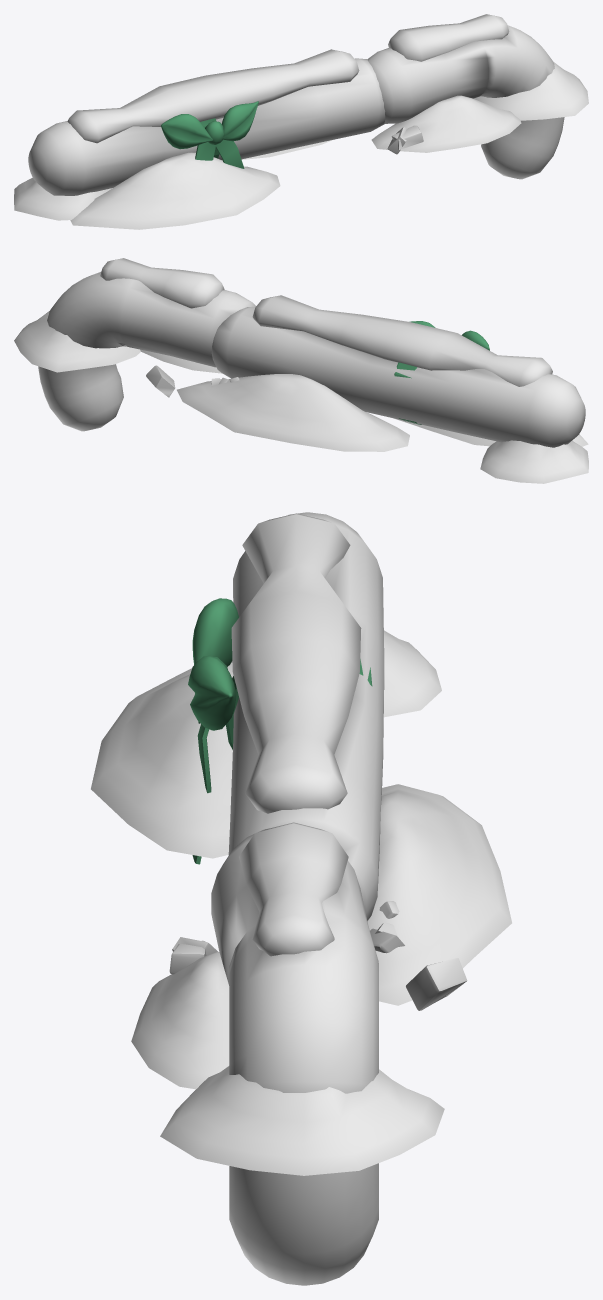
File: caneDown.glb
The picture shows the model from 3 angles, top to bottom: view 1: azimuth 30°, elevation 25°; view 2: azimuth 150°, elevation 25°; view 3: azimuth 270°, elevation 25°; orthographic projection. The views are drawn at different scales.
Visible parts, largest first — view 1: caneDown_snow, caneDown_candy, caneDown_ribbon; view 2: caneDown_candy, caneDown_snow, caneDown_ribbon; view 3: caneDown_snow, caneDown_candy, caneDown_ribbon.
Part boxes in pixels (bbox=[...]): caneDown_snow: bbox=[14, 14, 588, 229]; caneDown_candy: bbox=[28, 25, 564, 195]; caneDown_ribbon: bbox=[161, 101, 258, 168]; caneDown_candy: bbox=[38, 272, 585, 447]; caneDown_snow: bbox=[14, 258, 588, 483]; caneDown_ribbon: bbox=[394, 321, 489, 424]; caneDown_snow: bbox=[91, 513, 511, 1175]; caneDown_candy: bbox=[169, 512, 467, 1285]; caneDown_ribbon: bbox=[188, 598, 372, 864].
Size of the model in its own units: 4.94 by 1.47 by 1.61.
